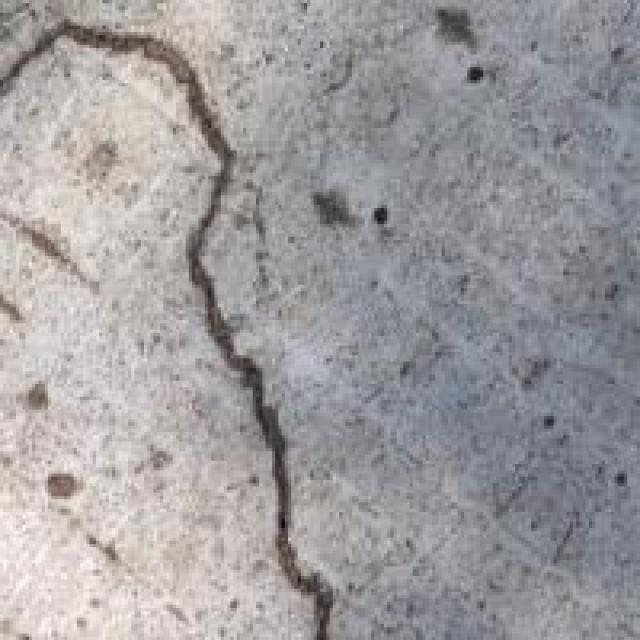Crack: (3, 0, 333, 637)
